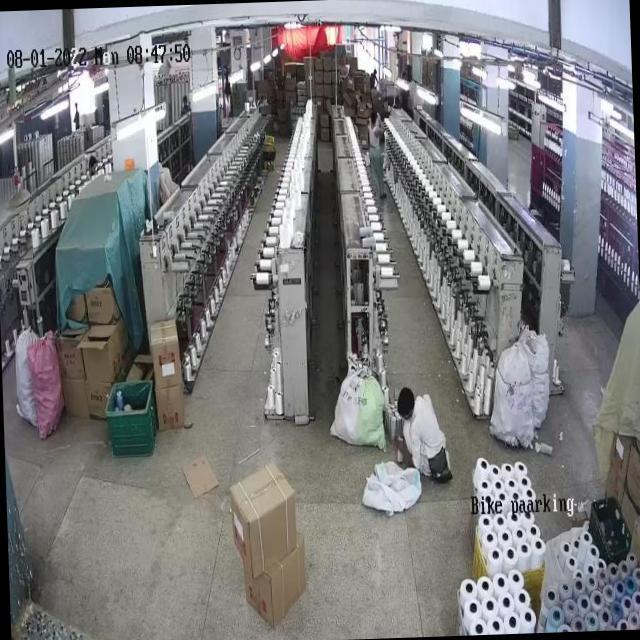person: (400, 384, 448, 493), (364, 98, 384, 196)
